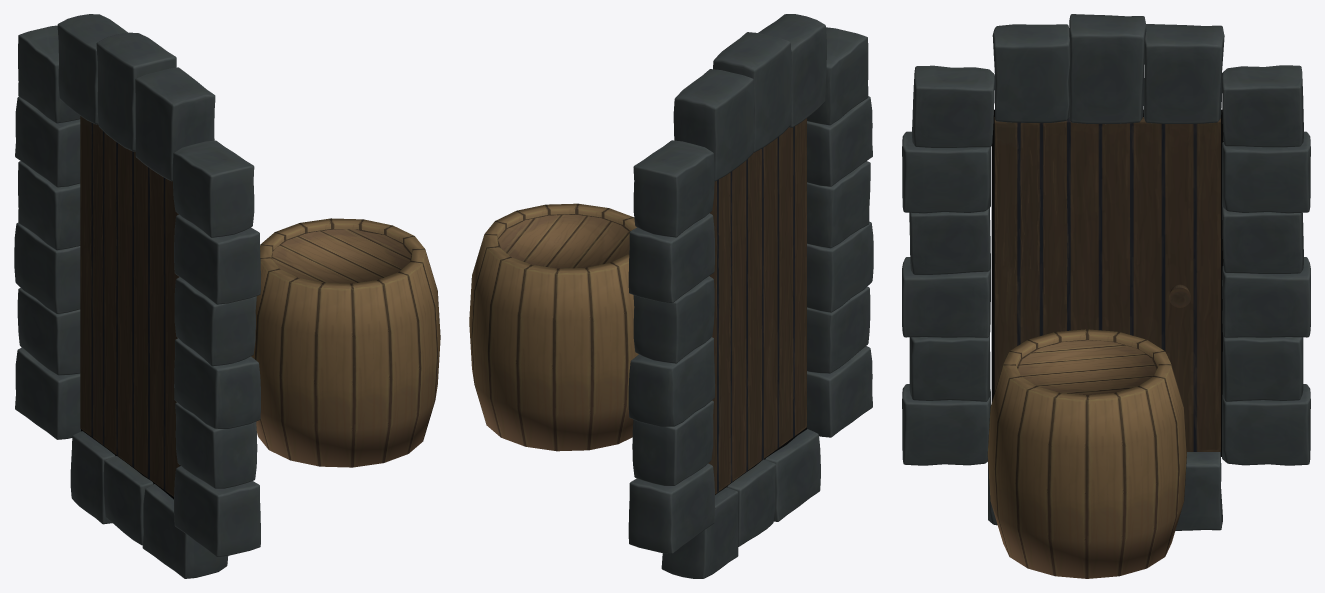
The model's file is TutorialExtraObjects.glb.
3 renders of one model, left to right at view 1: azimuth 30°, elevation 25°; view 2: azimuth 150°, elevation 25°; view 3: azimuth 270°, elevation 25°, orthographic.
Parts seen in each view (by area): view 1: Barrel, Door, ArchwayStone.011, ArchwayStone.012, ArchwayStone.006, ArchwayStone.010, ArchwayStone.008, ArchwayStone.013, ArchwayStone.009, ArchwayStone.007, ArchwayStone.014, ArchwayStone.002 (+8 smaller); view 2: Barrel, Door, ArchwayStone.005, ArchwayStone.014, ArchwayStone, ArchwayStone.004, ArchwayStone.002, ArchwayStone.013, ArchwayStone.003, ArchwayStone.001, ArchwayStone.008, ArchwayStone.006 (+8 smaller); view 3: Door, Barrel, ArchwayStone.013, ArchwayStone.014, ArchwayStone.012, ArchwayStone.005, ArchwayStone.011, ArchwayStone.004, ArchwayStone.010, ArchwayStone, ArchwayStone.008, ArchwayStone.002 (+7 smaller).
Part boxes in pixels (box(x1,y1,x2,y2)): Barrel: box(251, 218, 440, 467); Door: box(80, 116, 180, 496); ArchwayStone.011: box(172, 140, 254, 237); ArchwayStone.012: box(135, 67, 215, 181); ArchwayStone.006: box(174, 466, 260, 556); ArchwayStone.010: box(174, 214, 260, 304); ArchwayStone.008: box(174, 338, 260, 428); ArchwayStone.013: box(96, 32, 176, 151); ArchwayStone.009: box(174, 277, 256, 366); ArchwayStone.007: box(175, 402, 257, 488); ArchwayStone.014: box(57, 14, 127, 124); ArchwayStone.002: box(14, 223, 80, 313); Barrel: box(469, 203, 638, 451); Door: box(708, 118, 806, 494); ArchwayStone.005: box(633, 140, 714, 237); ArchwayStone.014: box(673, 69, 754, 181); ArchwayStone: box(628, 463, 715, 553); ArchwayStone.004: box(628, 213, 715, 303); ArchwayStone.002: box(628, 337, 714, 426); ArchwayStone.013: box(713, 32, 791, 152); ArchwayStone.003: box(633, 276, 714, 363); ArchwayStone.001: box(632, 400, 713, 485); ArchwayStone.008: box(807, 221, 873, 312); ArchwayStone.006: box(807, 346, 872, 437); Door: box(994, 117, 1220, 451); Barrel: box(987, 329, 1186, 578); ArchwayStone.013: box(1069, 14, 1146, 124); ArchwayStone.014: box(1143, 24, 1224, 123); ArchwayStone.012: box(992, 24, 1069, 122); ArchwayStone.005: box(1222, 65, 1303, 147); ArchwayStone.011: box(912, 65, 994, 147); ArchwayStone.004: box(1222, 131, 1310, 213); ArchwayStone.010: box(902, 131, 990, 213); ArchwayStone: box(1222, 384, 1310, 465); ArchwayStone.008: box(902, 257, 990, 337); ArchwayStone.002: box(1222, 257, 1310, 337).
Size of the model in its own units: 7.17 by 11.1 by 8.34.
5 materials, 4 textured.
